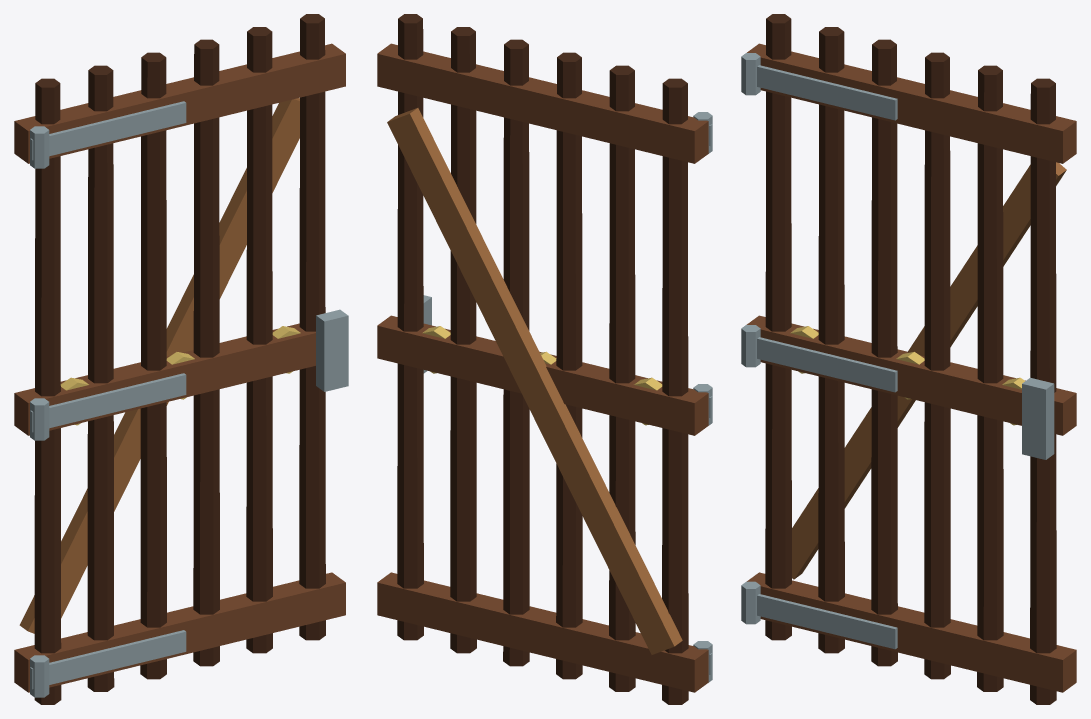
The model's file is palisade_gate_leaf.glb.
3 views of the same model, side by side, from view 1: azimuth 30°, elevation 25°; view 2: azimuth 150°, elevation 25°; view 3: azimuth 330°, elevation 25° (orthographic).
Visible parts, largest first — view 1: Gate_Bar_4, Gate_Bar_3, Gate_Bar_2, Gate_Bar_1, Gate_Bar_5, Gate_Bar_0, Gate_Rail_2, Gate_Rail_0, Gate_Brace, Gate_Rail_1, Gate_Strap_1, Gate_Strap_0 (+5 smaller); view 2: Gate_Brace, Gate_Rail_2, Gate_Rail_0, Gate_Bar_0, Gate_Bar_3, Gate_Bar_5, Gate_Bar_2, Gate_Bar_4, Gate_Bar_1, Gate_Rail_1; view 3: Gate_Bar_3, Gate_Bar_4, Gate_Bar_2, Gate_Bar_1, Gate_Bar_0, Gate_Bar_5, Gate_Rail_2, Gate_Rail_0, Gate_Rail_1, Gate_Brace, Gate_Strap_2, Gate_Strap_0 (+5 smaller).
Part boxes in pixels (<box>): Gate_Bar_4: <box>246,27,272,653</box>; Gate_Bar_3: <box>193,39,219,666</box>; Gate_Bar_2: <box>140,52,166,679</box>; Gate_Bar_1: <box>87,65,114,691</box>; Gate_Bar_5: <box>299,14,325,640</box>; Gate_Bar_0: <box>34,78,61,704</box>; Gate_Rail_2: <box>14,43,345,163</box>; Gate_Rail_0: <box>14,572,345,692</box>; Gate_Brace: <box>19,98,299,633</box>; Gate_Rail_1: <box>14,323,315,435</box>; Gate_Strap_1: <box>30,373,186,432</box>; Gate_Strap_0: <box>30,630,186,689</box>; Gate_Brace: <box>387,108,682,654</box>; Gate_Rail_2: <box>377,43,708,163</box>; Gate_Rail_0: <box>377,572,708,692</box>; Gate_Bar_0: <box>662,78,688,704</box>; Gate_Bar_3: <box>503,39,529,666</box>; Gate_Bar_5: <box>397,14,423,640</box>; Gate_Bar_2: <box>556,52,582,679</box>; Gate_Bar_4: <box>450,27,476,653</box>; Gate_Bar_1: <box>609,65,635,691</box>; Gate_Rail_1: <box>377,315,708,435</box>; Gate_Bar_3: <box>924,52,950,679</box>; Gate_Bar_4: <box>977,65,1003,691</box>; Gate_Bar_2: <box>871,39,897,666</box>; Gate_Bar_1: <box>818,27,844,653</box>; Gate_Bar_0: <box>765,14,791,640</box>; Gate_Bar_5: <box>1030,78,1056,704</box>; Gate_Rail_2: <box>747,43,1076,163</box>; Gate_Rail_0: <box>747,572,1076,692</box>; Gate_Rail_1: <box>746,315,1076,435</box>; Gate_Brace: <box>792,162,1066,579</box>; Gate_Strap_2: <box>757,65,897,120</box>; Gate_Strap_0: <box>757,594,897,649</box>.
Bounding box in the file's own units: 1.32 × 2.45 × 0.225.
